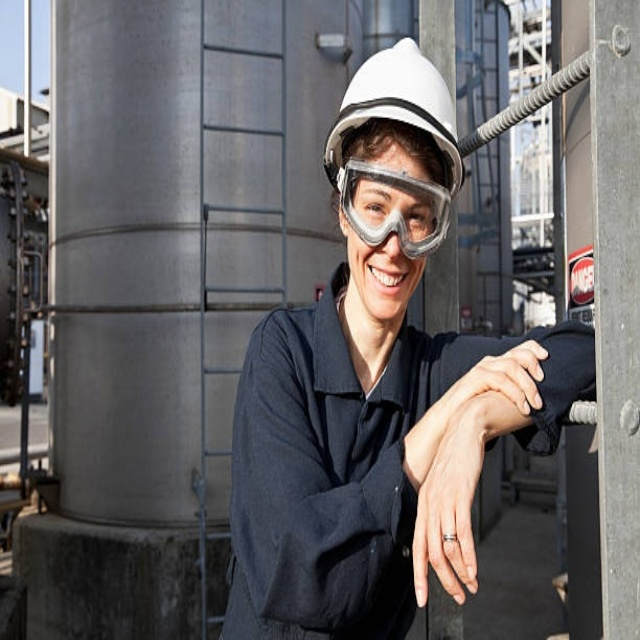Gafas: (335, 158, 454, 259)
Sin_guantes: (411, 395, 493, 616), (453, 331, 552, 420)
Sin_mascara: (363, 260, 409, 312)
